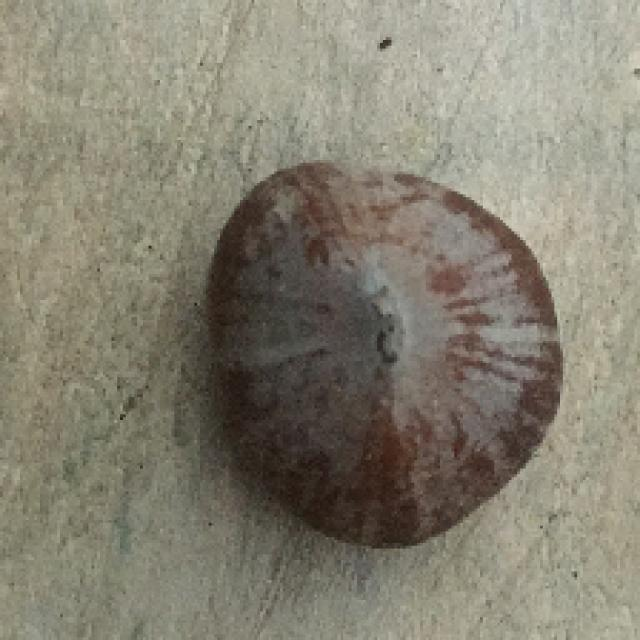qualityHazelnut: (200, 148, 570, 553)
